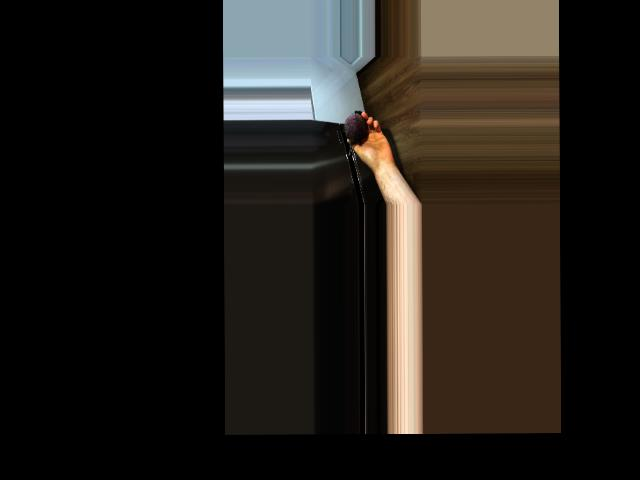beet: (344, 110, 366, 154)
